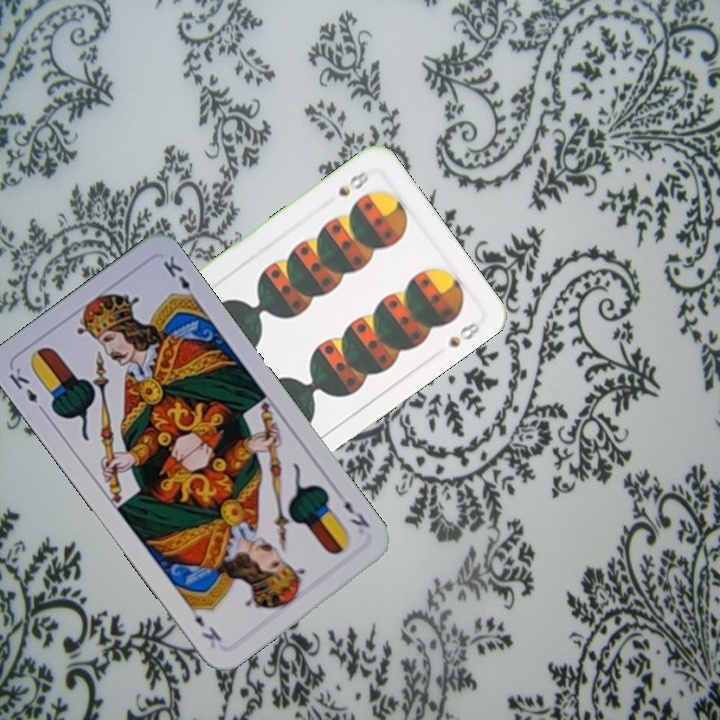EK: (5, 363, 49, 417), (340, 496, 373, 531)
S8: (333, 165, 372, 199)
